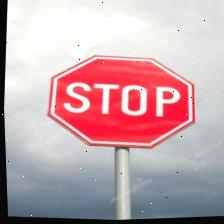Stop: (45, 50, 199, 156)
